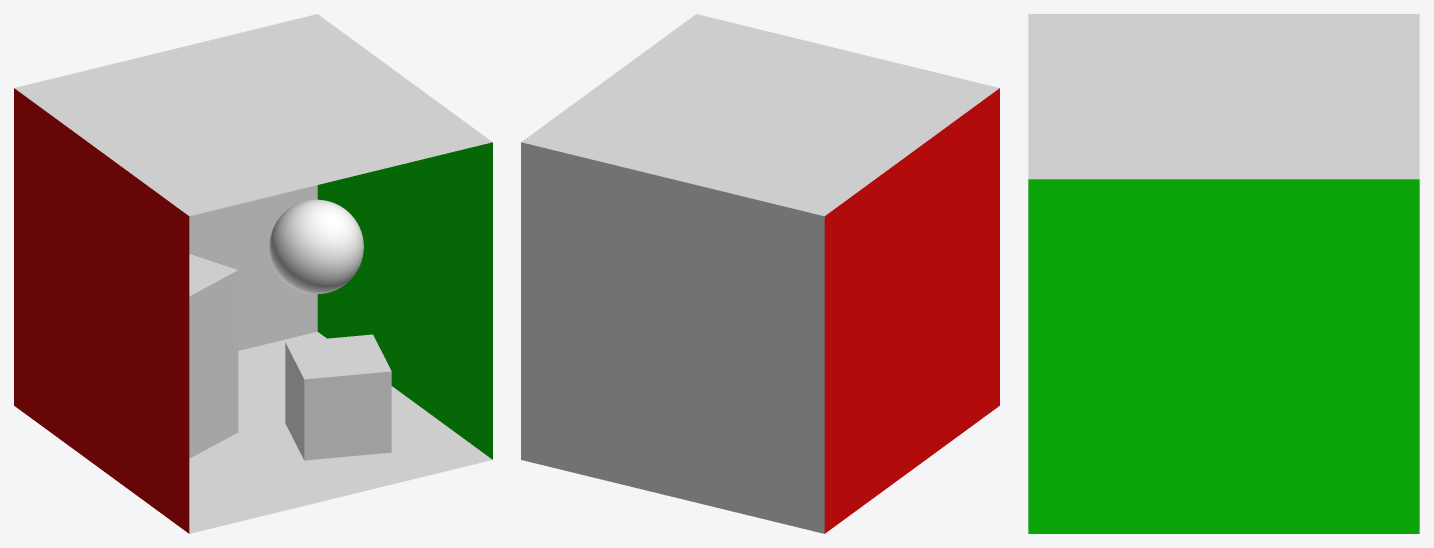
Rendered from fancy_cornell_box.gltf.
3 renders of one model, left to right at view 1: azimuth 30°, elevation 25°; view 2: azimuth 150°, elevation 25°; view 3: azimuth 270°, elevation 25°, orthographic. The views are drawn at different scales.
Parts seen in each view (by area): view 1: wall_left, ceiling, wall_right, floor, box_short, wall_back, box_tall, sphere; view 2: wall_back, wall_left, ceiling; view 3: wall_right, ceiling.
Boxes of the visible parts, box(x1,y1,x2,y2) form: wall_left: box(14, 88, 189, 533); ceiling: box(14, 14, 492, 216); wall_right: box(317, 142, 492, 459); floor: box(189, 331, 492, 533); box_short: box(285, 334, 391, 460); wall_back: box(189, 185, 317, 350); box_tall: box(189, 254, 238, 458); sphere: box(269, 199, 363, 294); wall_back: box(521, 142, 824, 533); wall_left: box(824, 88, 999, 533); ceiling: box(521, 14, 999, 216); wall_right: box(1028, 179, 1419, 533); ceiling: box(1028, 14, 1419, 179).
Size of the model in its own units: 2.95 by 2.95 by 2.95.
